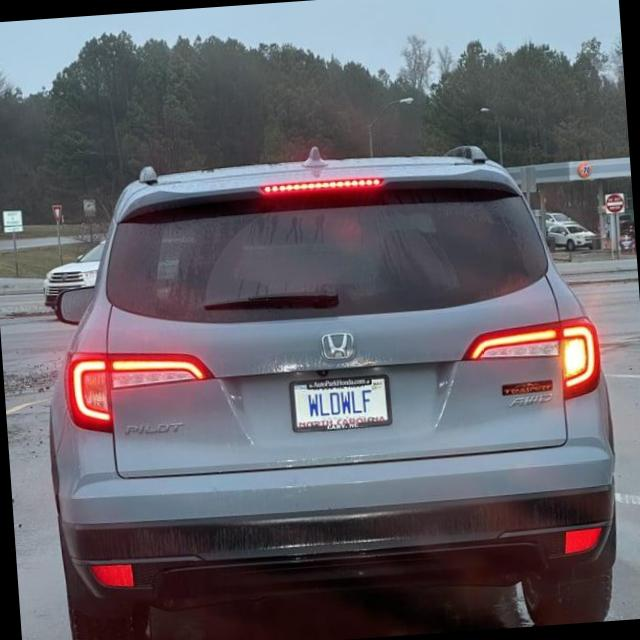LicensePlate: (288, 373, 392, 433)
